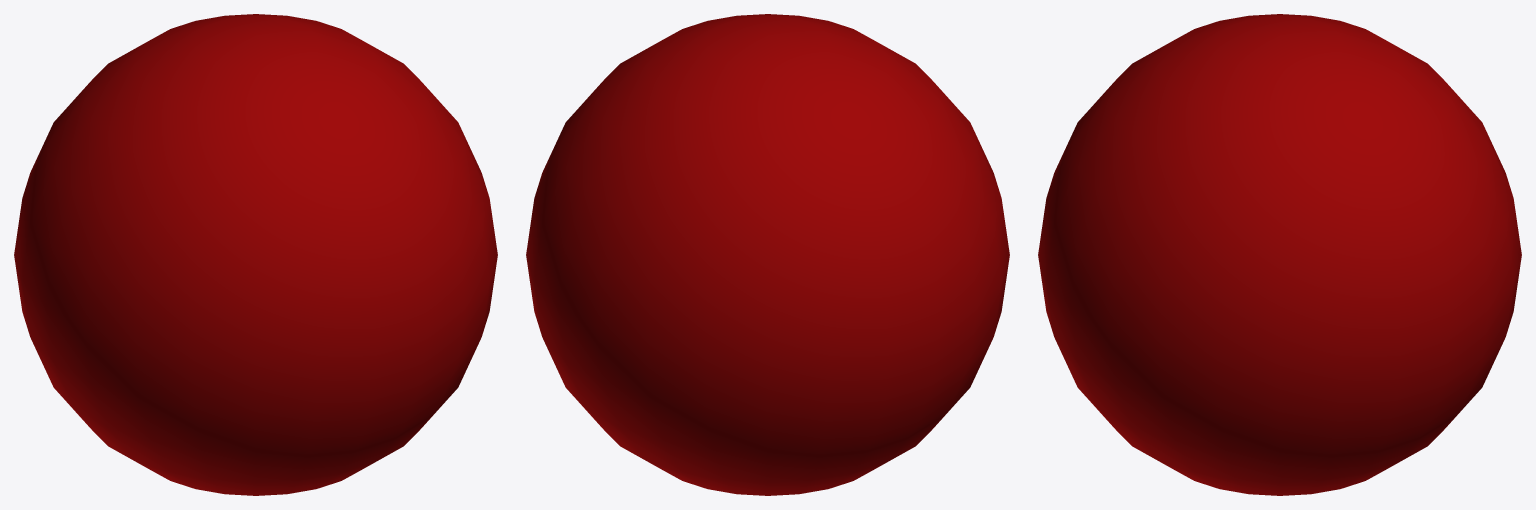
The model's file is Whirlwind - DARK.fbx.
The picture shows the model from 3 angles, left to right: view 1: azimuth 30°, elevation 25°; view 2: azimuth 150°, elevation 25°; view 3: azimuth 270°, elevation 25°; orthographic projection.
Parts seen in each view (by area): view 1: SketchUp; view 2: SketchUp; view 3: SketchUp.
Boxes of the visible parts, x1,y1,x2,y2 form: SketchUp: (14,14,497,495); SketchUp: (526,14,1009,495); SketchUp: (1038,14,1521,495).
Bounding box in the file's own units: 100 × 100 × 100.
